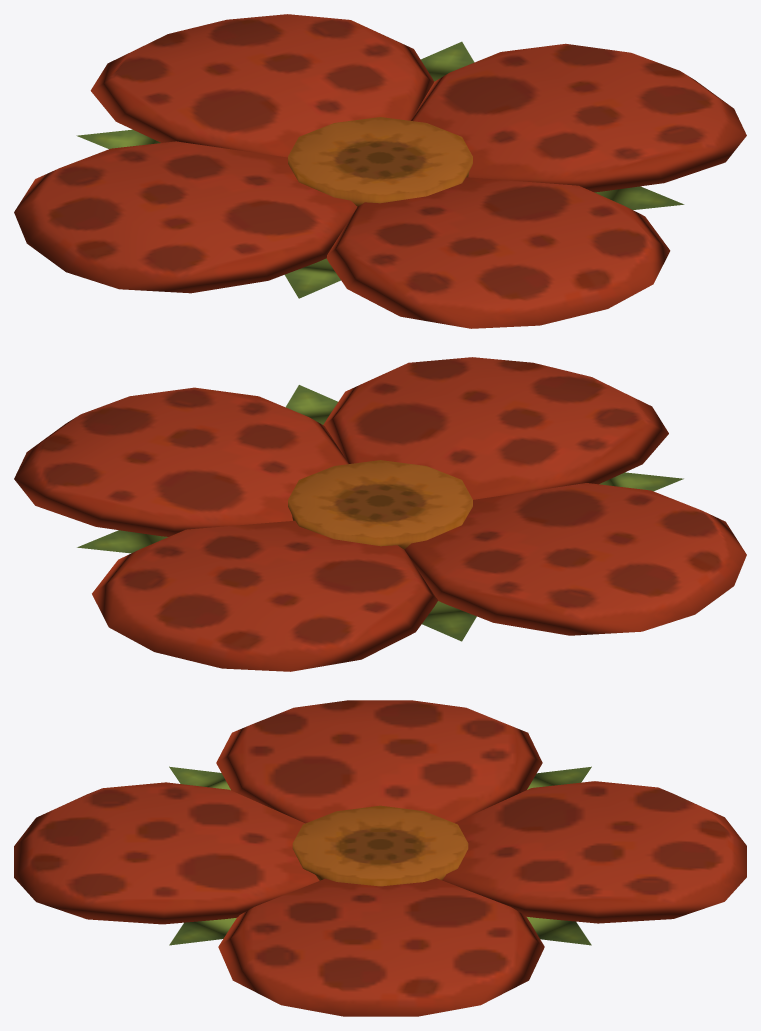
File: hanging_flower_lev2.glb
The picture shows the model from 3 angles, top to bottom: view 1: azimuth 30°, elevation 25°; view 2: azimuth 150°, elevation 25°; view 3: azimuth 270°, elevation 25°; orthographic projection. The views are drawn at different scales.
Parts seen in each view (by area): view 1: hanging_flower_lev2; view 2: hanging_flower_lev2; view 3: hanging_flower_lev2.
Boxes of the visible parts, x1,y1,x2,y2 form: hanging_flower_lev2: (14,14,746,328); hanging_flower_lev2: (14,357,746,671); hanging_flower_lev2: (14,700,746,1016).
Size of the model in its own units: 23.16 by 2.45 by 23.16.
1 material, 1 textured.
